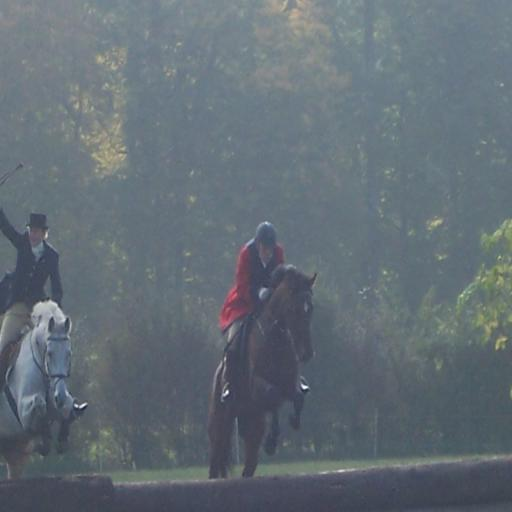horse: (206, 262, 318, 480), (0, 296, 75, 484)
